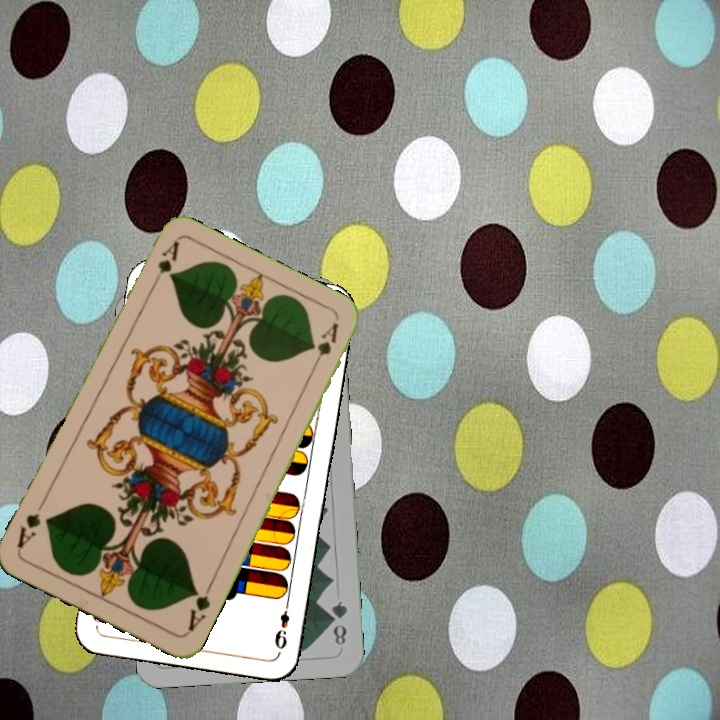E9: (271, 596, 292, 652)
G8: (326, 597, 350, 648)
GA: (146, 237, 182, 293), (183, 579, 215, 634)
